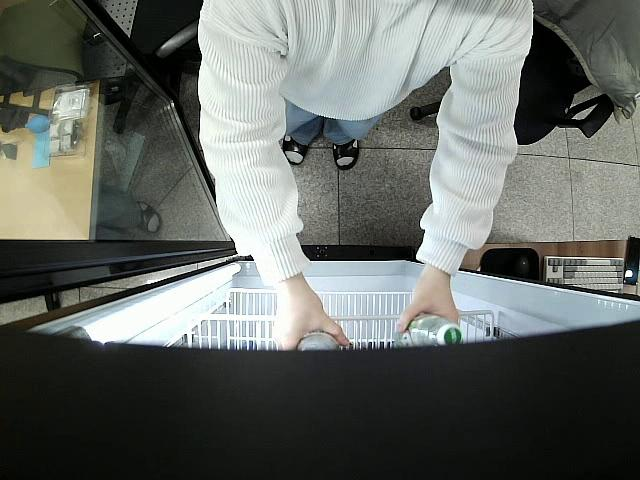00_hand: (273, 292, 350, 352), (398, 269, 460, 333)
18_trevi: (405, 309, 462, 346)
